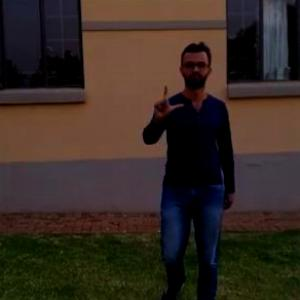land_hand: (151, 82, 186, 122)
